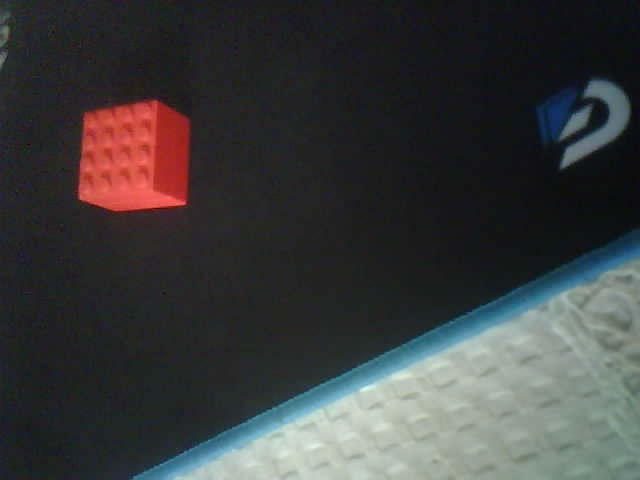lego: (76, 99, 191, 214)
